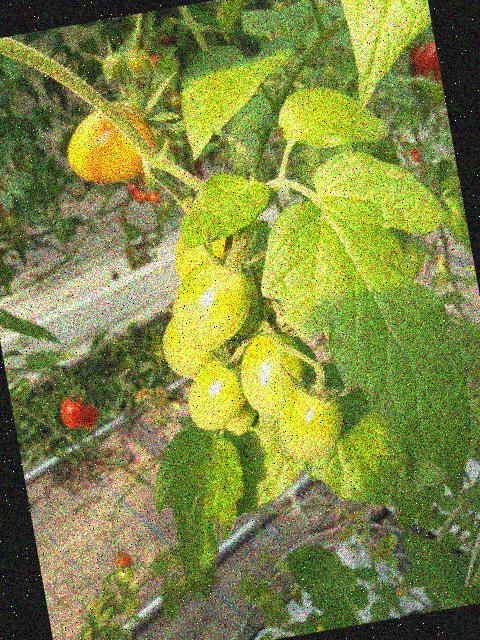l_fully_ripened: (59, 396, 89, 431), (77, 401, 100, 430)
l_green: (165, 252, 259, 355), (232, 325, 309, 419), (273, 380, 349, 466), (179, 351, 254, 435), (158, 308, 223, 380), (220, 399, 260, 437)
l_half_ripened: (60, 97, 161, 190), (168, 209, 247, 280)
